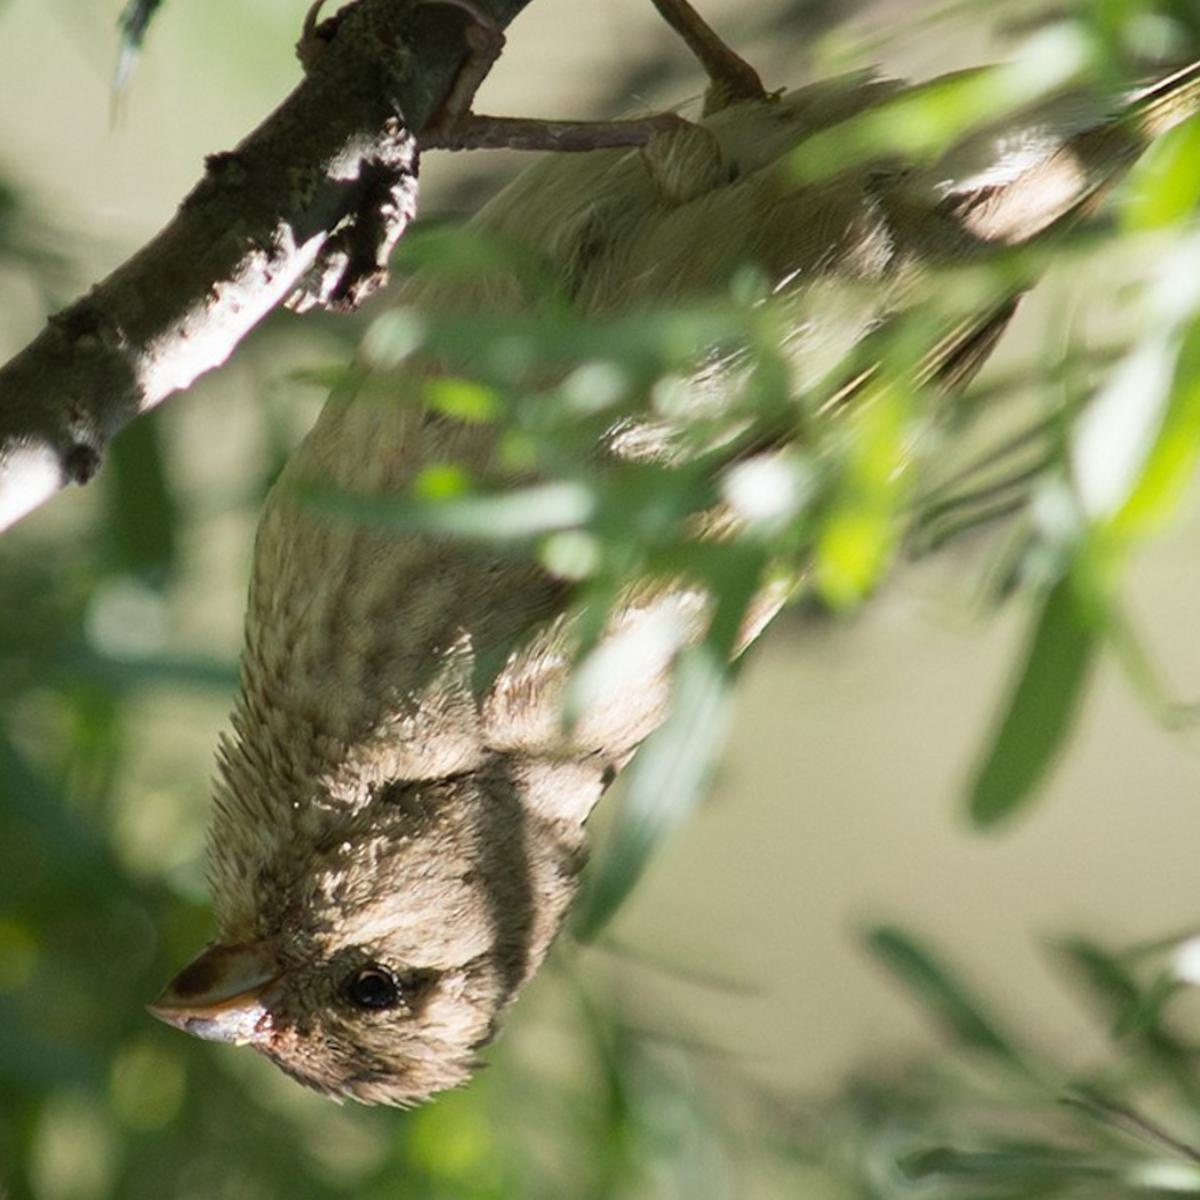rosefinch: (181, 151, 987, 1116)
